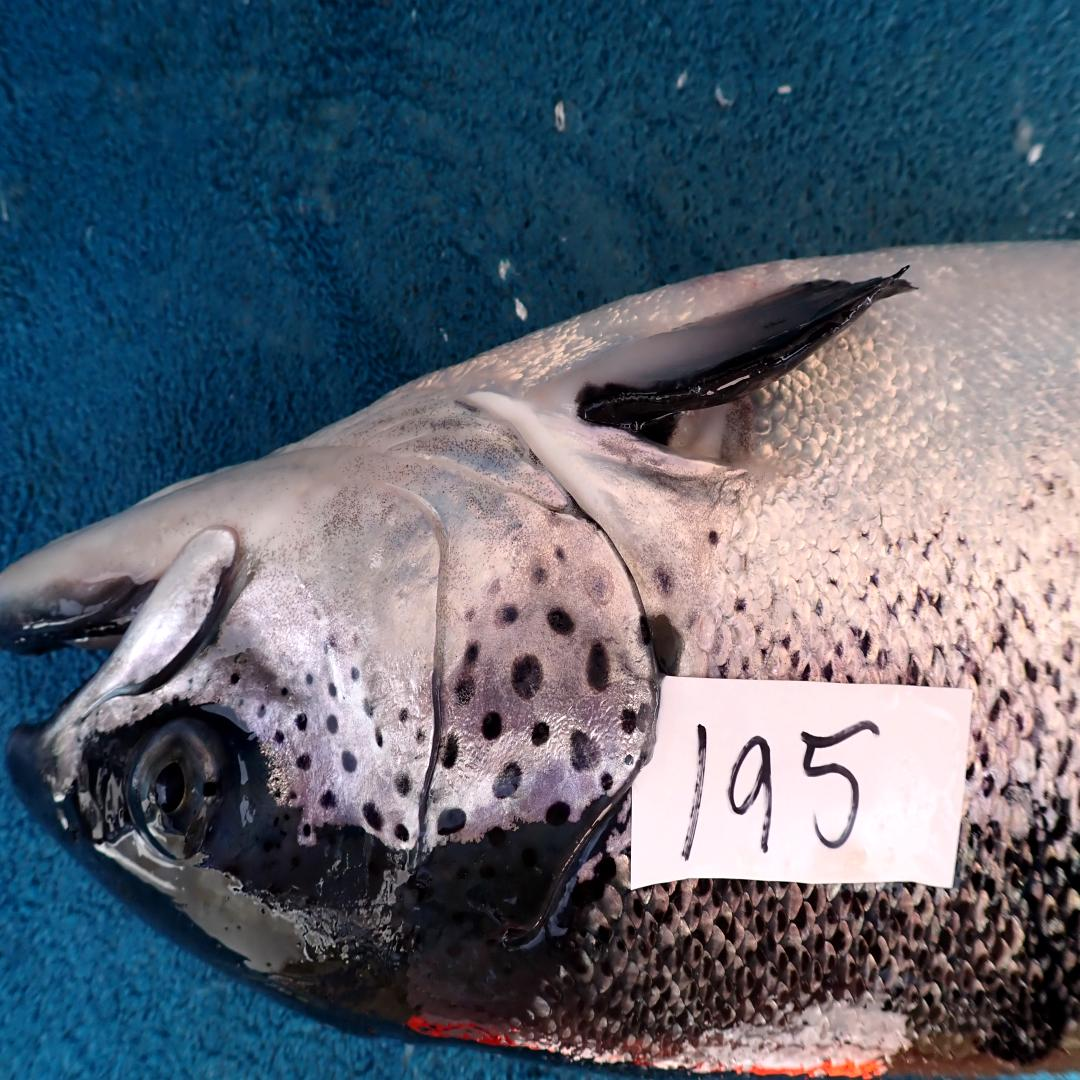roi: (236, 379, 660, 850)
